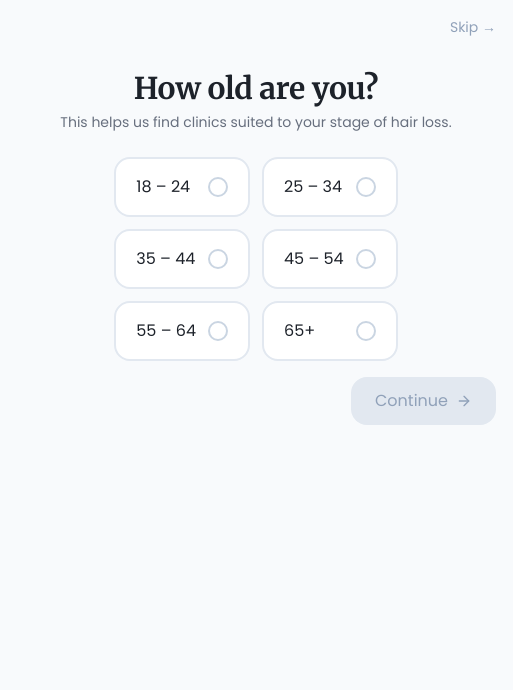
Test: GetStarted › Norwood step renders all 7 stage options
Click the button "18 – 24" at (182, 186), box [114, 156, 250, 216]
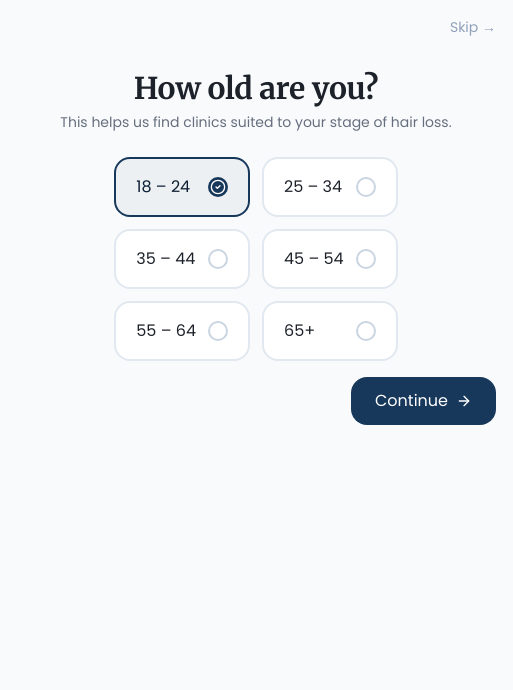
Click the button "Continue" at (424, 400), box [351, 376, 496, 424]
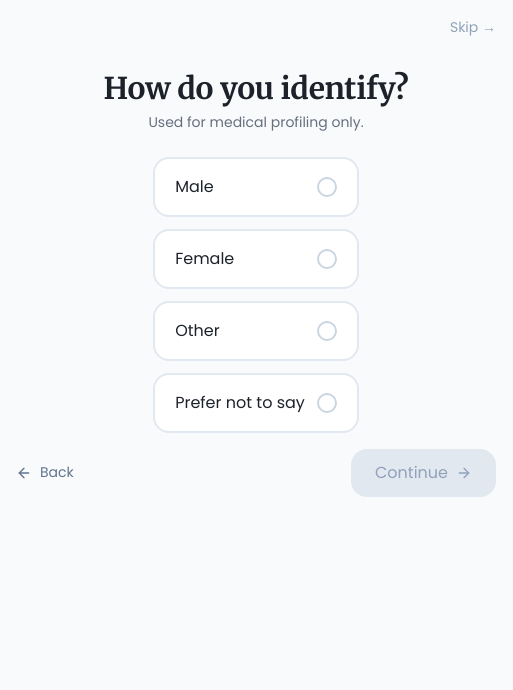
Result: the heading "How do you identify?" is shown at [104, 70, 408, 108]
Click the button "Male" at (256, 186), box [153, 156, 359, 216]
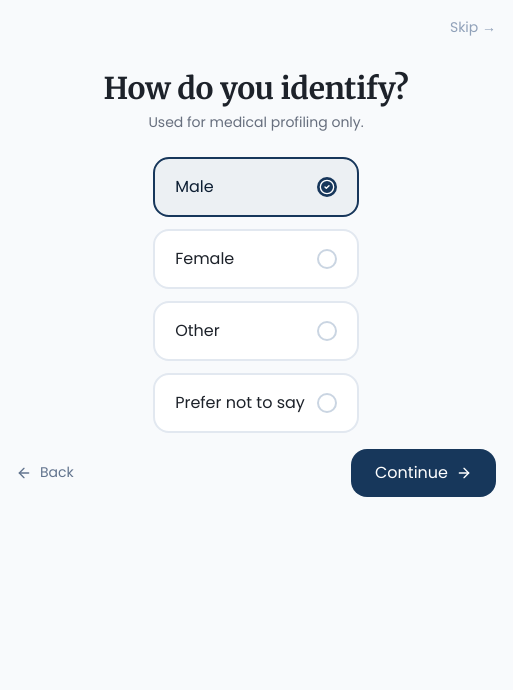
Click the button "Continue" at (424, 472), box [351, 448, 496, 496]
(page scrolled)
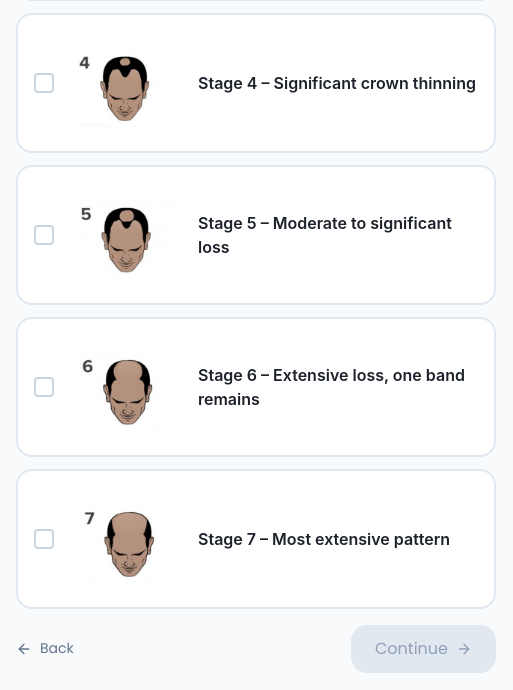
Result: the text "Stage 7 – Most extensive pattern" is shown at [198, 526, 450, 550]
